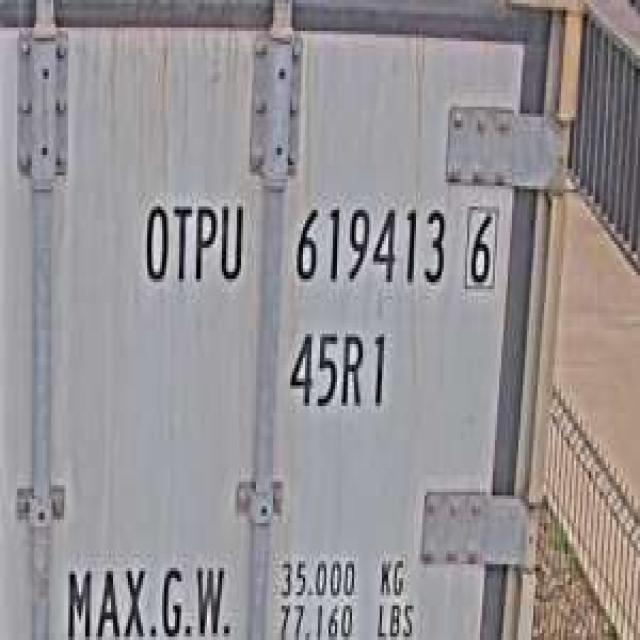dv: (459, 193, 501, 296)
owner: (136, 186, 250, 296)
serial: (286, 190, 448, 300)
size: (282, 316, 391, 416)
